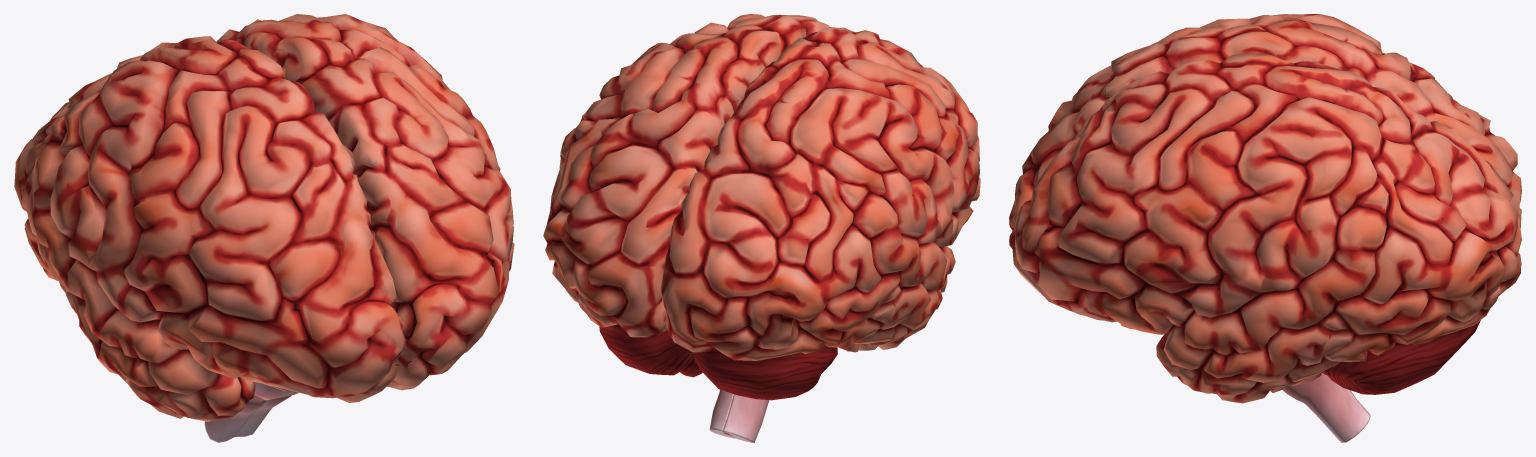
File: brainM.glb
3 renders of one model, left to right at view 1: azimuth 30°, elevation 25°; view 2: azimuth 150°, elevation 25°; view 3: azimuth 270°, elevation 25°, orthographic. The views are drawn at different scales.
Parts seen in each view (by area): view 1: Brain.001; view 2: Brain.001; view 3: Brain.001.
Boxes of the visible parts, x1,y1,x2,y2 form: Brain.001: (14,14,514,442); Brain.001: (543,14,980,442); Brain.001: (1009,14,1521,442).
Size of the model in its own units: 0.4375 by 0.4476 by 0.532.
Materials: 1 (1 with a texture image).
